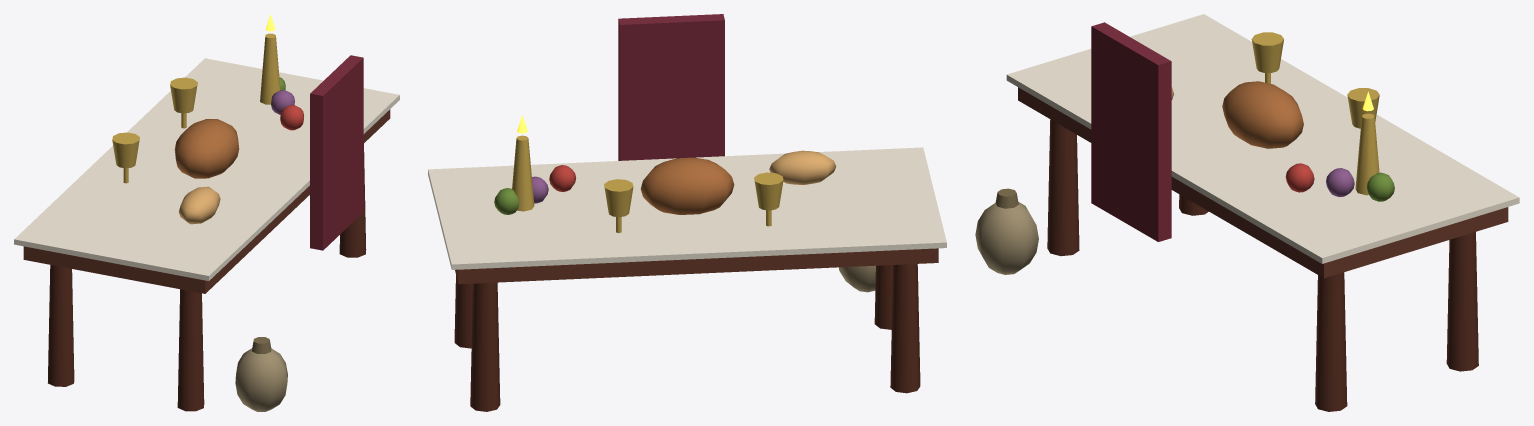
File: noble_feast.glb
3 renders of one model, left to right at view 1: azimuth 30°, elevation 25°; view 2: azimuth 150°, elevation 25°; view 3: azimuth 270°, elevation 25°, orthographic. The views are drawn at different scales.
Bounding box in the file's own units: 1.78 × 1.03 × 1.67.
